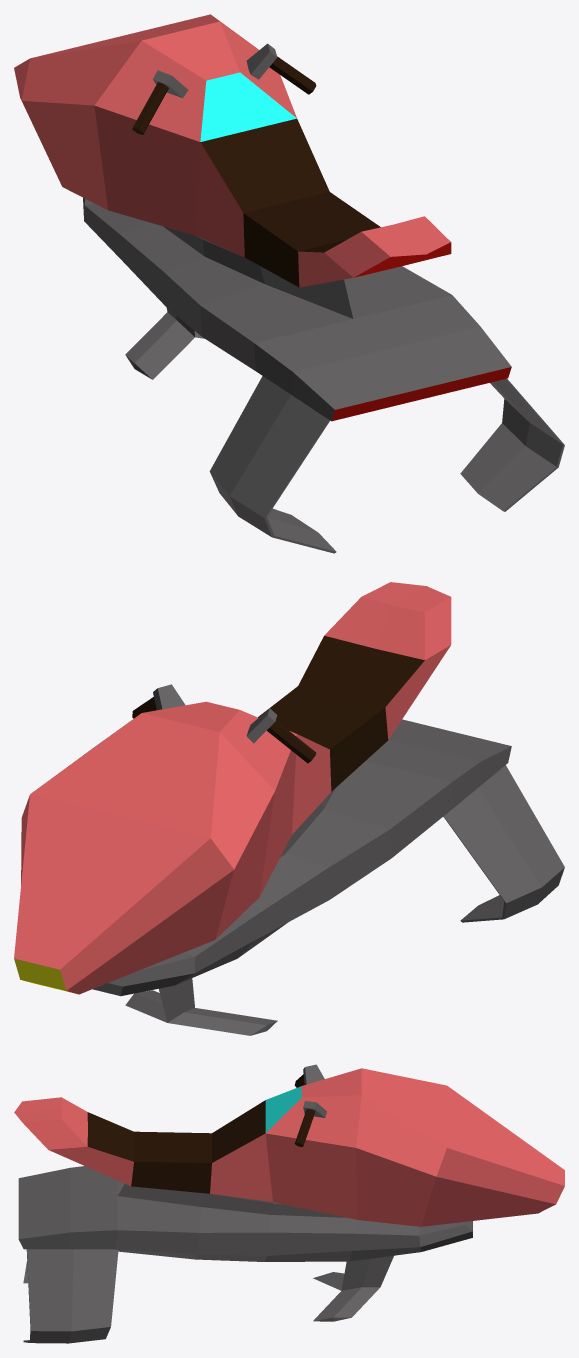
File: Jetski cream.fbx
3 views of the same model, one above another, from view 1: azimuth 30°, elevation 25°; view 2: azimuth 150°, elevation 25°; view 3: azimuth 270°, elevation 25° (orthographic). The views are drawn at different scales.
Parts seen in each view (by area): view 1: body, bar, handle; view 2: body, handle, bar; view 3: body, handle, bar.
Part boxes in pixels (<box>): body: <box>14,14,564,553</box>; bar: <box>132,56,316,134</box>; handle: <box>153,43,277,97</box>; body: <box>14,582,564,1035</box>; handle: <box>153,684,277,743</box>; bar: <box>132,697,316,763</box>; body: <box>14,1068,564,1343</box>; handle: <box>303,1064,326,1117</box>; bar: <box>294,1074,315,1146</box>.
Bounding box in the file's own units: 56.55 × 56.53 × 122.
